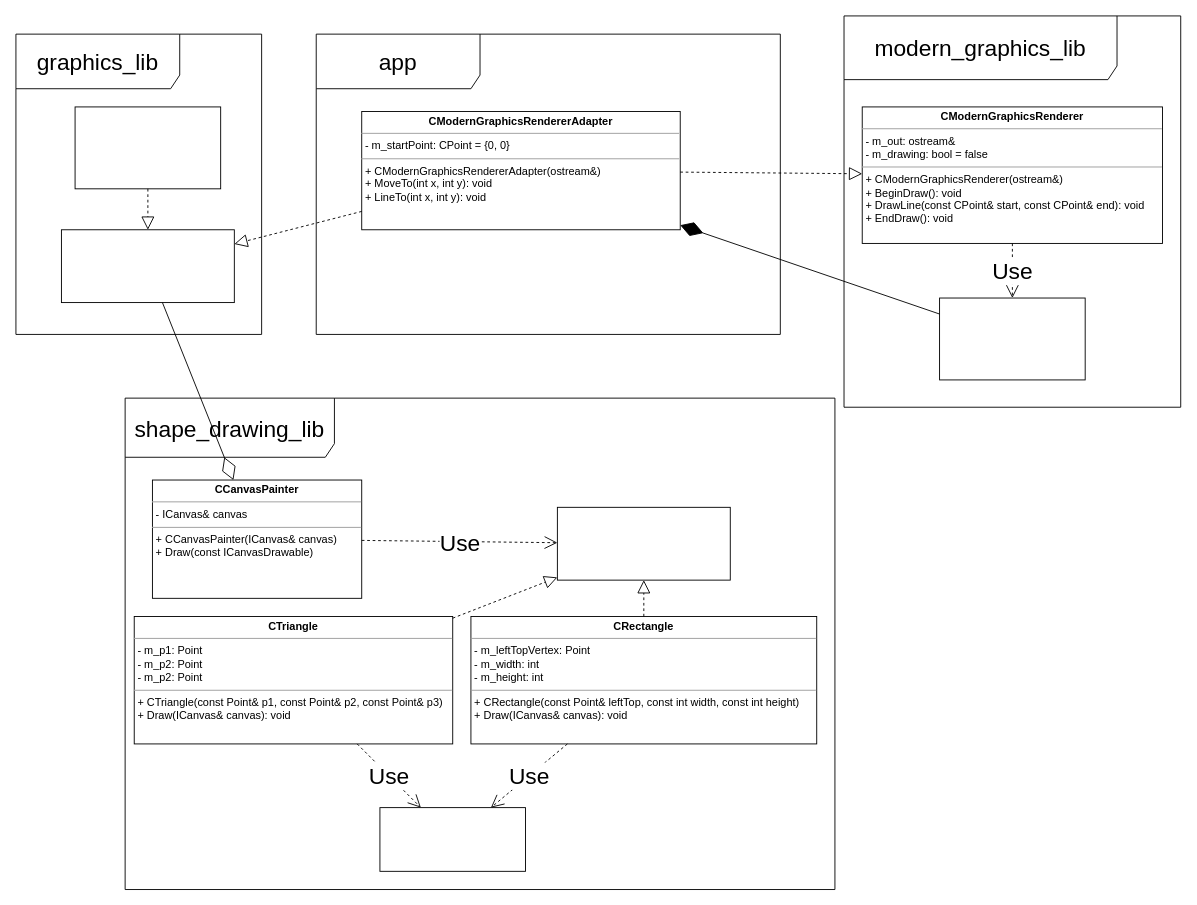
The diagram is 1197 pixels wide and 905 high, and some of its shapes have lost their labels. The centre of each missing label's shape, as x and y in pixels:
"<<Interface>> ICanvas + MoveTo(int x, int y): void + LineTo(int x, int y): void" belongs at [147,266].
"<<Interface>> ICanvasDrawable + Draw(ICanvas& canvas): void" belongs at [643,543].
"CCanvas + MoveTo(int x, int y): void + LineTo(int x, int y): void" belongs at [147,147].
"CPoint + x: int + y: int + CPoint(int x, int y)" belongs at [1012,338].
"Point + x: int + y: int" belongs at [452,839].
